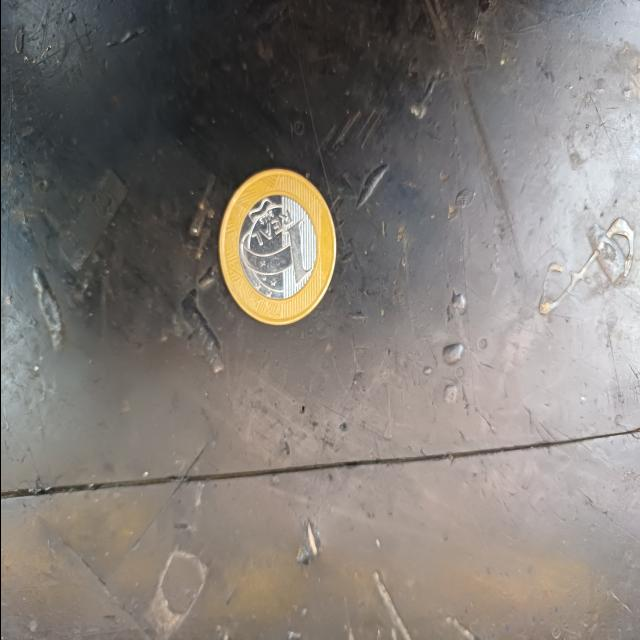1 real: (212, 167, 342, 329)
